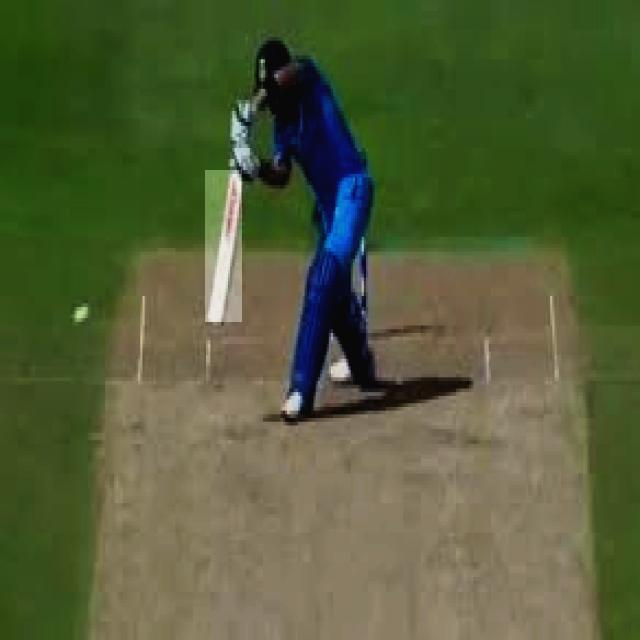bat: (203, 173, 243, 325)
toe: (200, 310, 223, 329)
